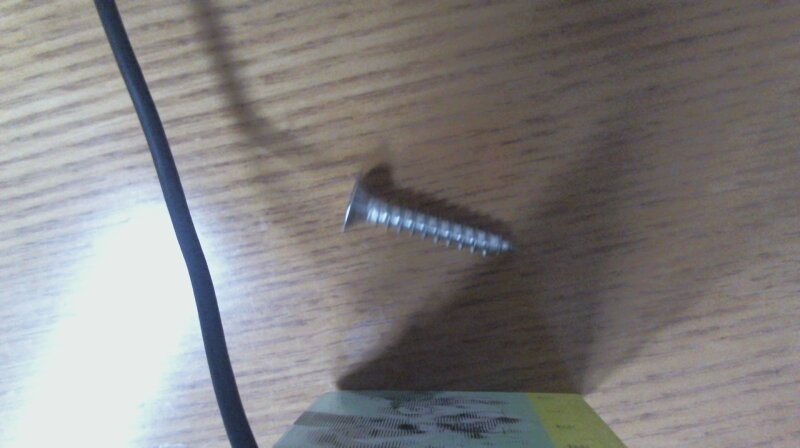S001: (335, 174, 524, 262)
